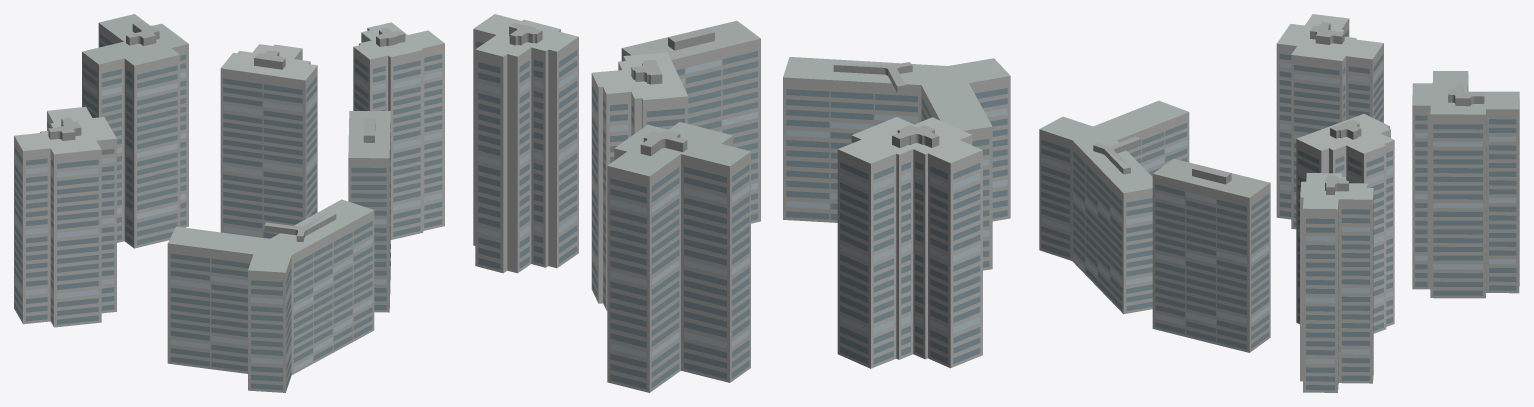
Rendered from apt-a13821003.glb.
3 views of the same model, side by side, from view 1: azimuth 30°, elevation 25°; view 2: azimuth 150°, elevation 25°; view 3: azimuth 270°, elevation 25° (orthographic). The views are drawn at different scales.
Visible parts, largest first — view 1: apt-a13821003; view 2: apt-a13821003; view 3: apt-a13821003.
Part boxes in pixels (x1,y1,x2,y2): apt-a13821003: (14,14,444,392); apt-a13821003: (473,14,1010,392); apt-a13821003: (1039,14,1519,392).
Bounding box in the file's own units: 135 × 59 × 134.
